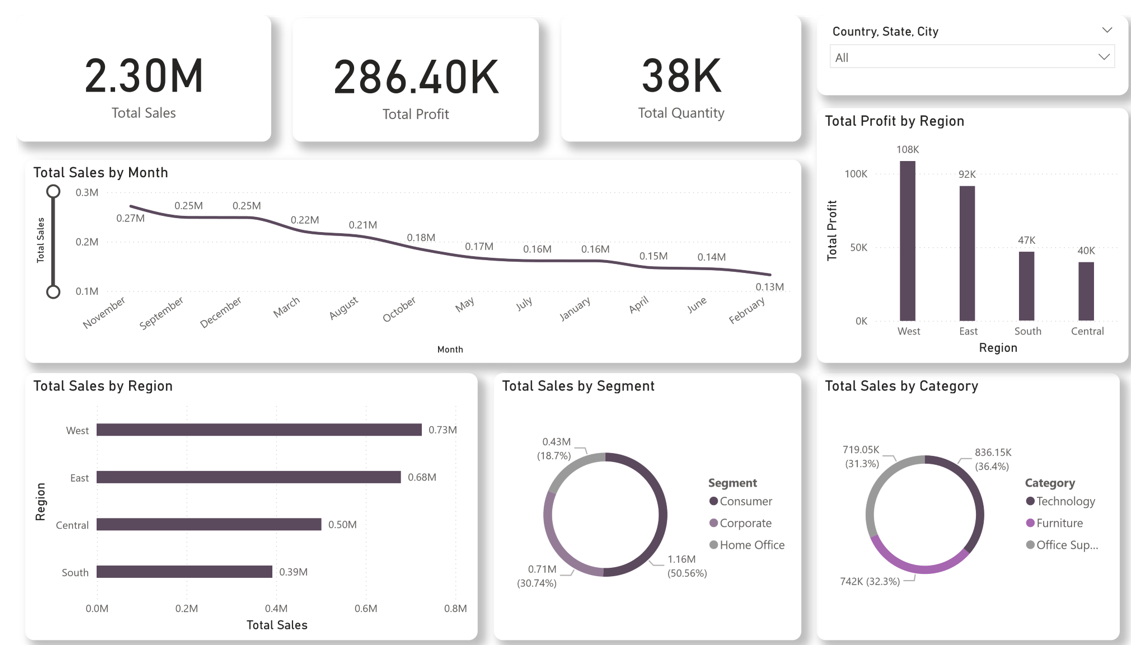

The dashboard page shown, as its layout file describes it:
{"tool":"powerbi","page":{"name":"Page 1","canvas":[1280,720],"ordinal":0},"visuals":[{"type":"lineChart","fields":{"Y":["Sum(Sample - Superstore.Sales)"],"Category":["Date.Month"]},"box":[9.6,164.7,887.8,231.9],"z":0},{"type":"clusteredBarChart","fields":{"Y":["Sum(Sample - Superstore.Sales)"],"Category":["Sample - Superstore.Region"]},"box":[9.6,408.9,517.3,304.6],"z":1000},{"type":"donutChart","fields":{"Y":["Sum(Sample - Superstore.Sales)"],"Category":["Sample - Superstore.Category"]},"box":[915.3,408.9,345.8,304.6],"z":2000},{"type":"donutChart","fields":{"Y":["Sum(Sample - Superstore.Sales)"],"Category":["Sample - Superstore.Segment"]},"box":[546.1,408.9,351.3,304.6],"z":3000},{"type":"slicer","fields":{"Values":["Sample - Superstore.Country","Sample - Superstore.State","Sample - Superstore.City"]},"box":[915.3,0,355.4,90.6],"z":4000},{"type":"card","fields":{"Values":["Sum(Sample - Superstore.Sales)"]},"box":[0,0,290.9,144.1],"z":5000},{"type":"card","fields":{"Values":["Sum(Sample - Superstore.Profit)"]},"box":[315.6,2.7,281.3,141.3],"z":6000},{"type":"card","fields":{"Values":["Sum(Sample - Superstore.Quantity)"]},"box":[623,0,274.4,144.1],"z":7000},{"type":"clusteredColumnChart","fields":{"Y":["Sum(Sample - Superstore.Profit)"],"Category":["Sample - Superstore.Region"]},"box":[915.3,105.7,355.4,290.9],"z":7001}]}

Visuals, with their boxes in screenshot pixels (x1, y1, x2, y2), scaled from the page's 1280x720 canvas onto the 1131x649 screenshot:
lineChart - Sum(Sample - Superstore.Sales) x Date.Month: rect(8, 148, 793, 357)
clusteredBarChart - Sum(Sample - Superstore.Sales) x Sample - Superstore.Region: rect(8, 369, 466, 643)
donutChart - Sum(Sample - Superstore.Sales) x Sample - Superstore.Category: rect(809, 369, 1114, 643)
donutChart - Sum(Sample - Superstore.Sales) x Sample - Superstore.Segment: rect(483, 369, 793, 643)
slicer - Sample - Superstore.Country x Sample - Superstore.State: rect(809, 0, 1123, 82)
card - Sum(Sample - Superstore.Sales): rect(0, 0, 257, 130)
card - Sum(Sample - Superstore.Profit): rect(279, 2, 527, 130)
card - Sum(Sample - Superstore.Quantity): rect(550, 0, 793, 130)
clusteredColumnChart - Sum(Sample - Superstore.Profit) x Sample - Superstore.Region: rect(809, 95, 1123, 357)
